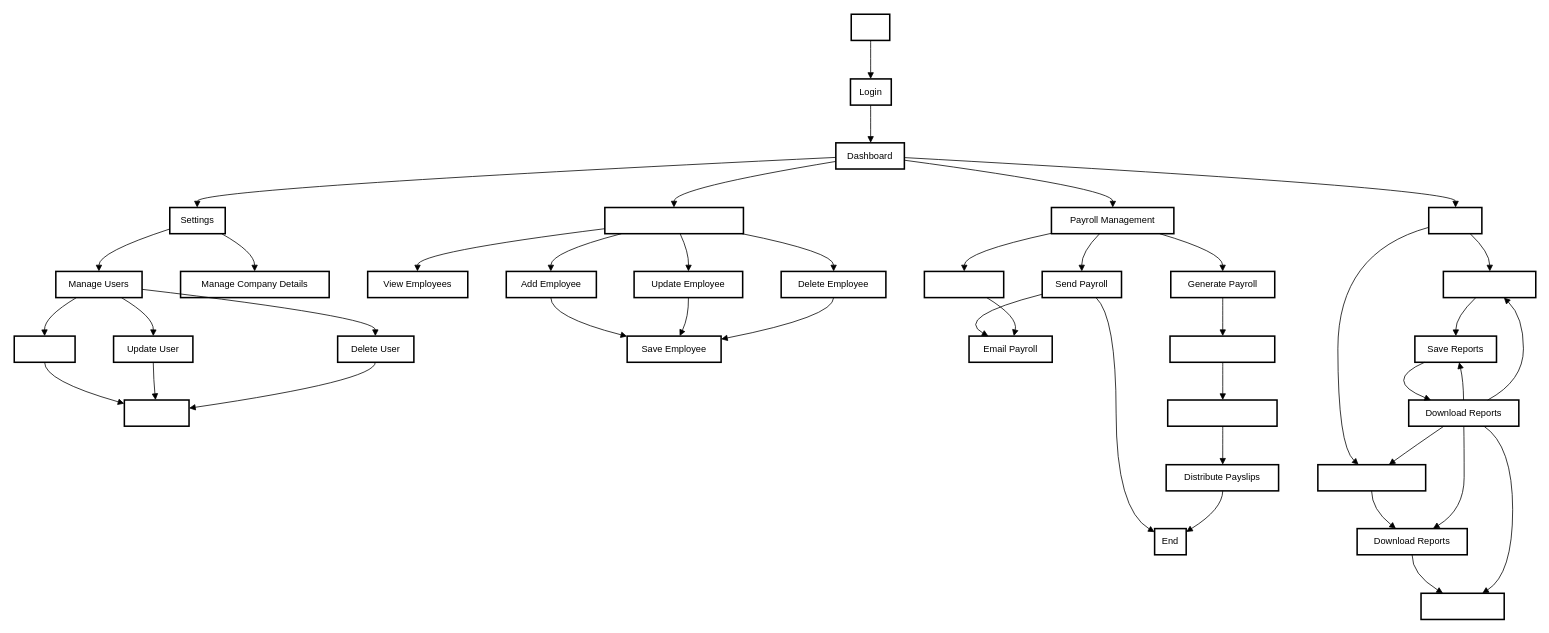
Some shapes in this 1549 by 633 pixel diagram are drawn without their labels. Here are the shapes that lost their labels. From the top down, the centre of each, then its label:
At point 870,27: "Start".
At point 674,220: "Employee Management".
At point 1455,220: "Reports".
At point 963,284: "View Payroll".
At point 1489,284: "Export Reports".
At point 44,349: "Add User".
At point 1222,349: "Calculate Payroll".
At point 156,413: "Save User".
At point 1222,413: "Generate Payslips".
At point 1371,477: "Generate Reports".
At point 1462,606: "Print Reports".
